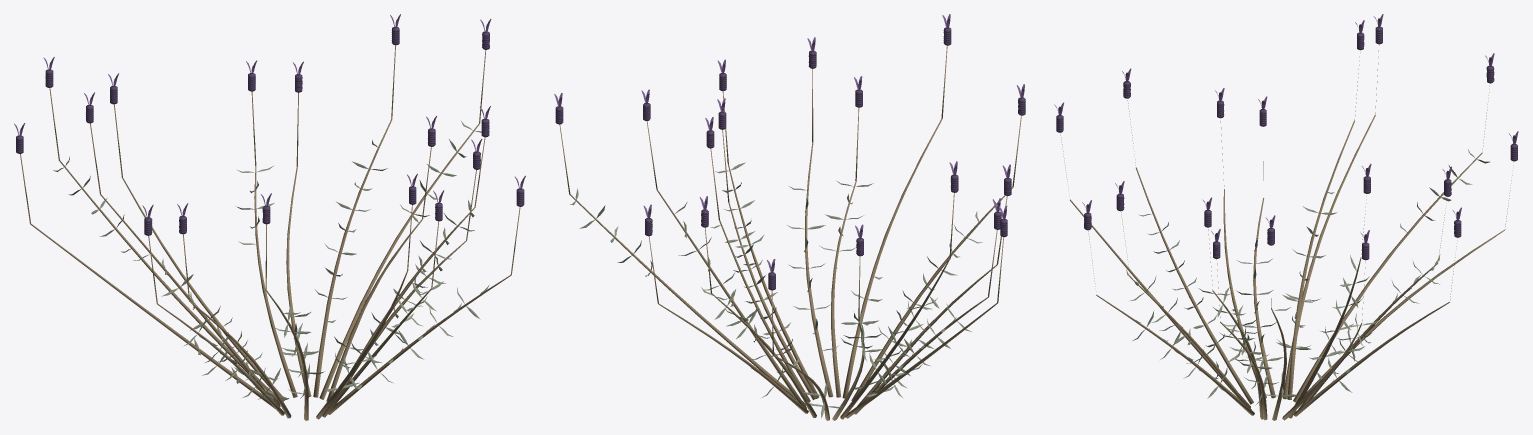
Rendered from Lavande_2_Niveau1.fbx.
3 renders of one model, left to right at view 1: azimuth 30°, elevation 25°; view 2: azimuth 150°, elevation 25°; view 3: azimuth 270°, elevation 25°, orthographic. The views are drawn at different scales.
Visible parts, largest first — view 1: Lavande_2_Niveau1_Jeu; view 2: Lavande_2_Niveau1_Jeu; view 3: Lavande_2_Niveau1_Jeu.
Boxes of the visible parts, bbox=[...] form: Lavande_2_Niveau1_Jeu: bbox=[14, 14, 525, 420]; Lavande_2_Niveau1_Jeu: bbox=[554, 14, 1025, 420]; Lavande_2_Niveau1_Jeu: bbox=[1054, 14, 1518, 420].
Bounding box in the file's own units: 91.32 × 60.45 × 82.35.
